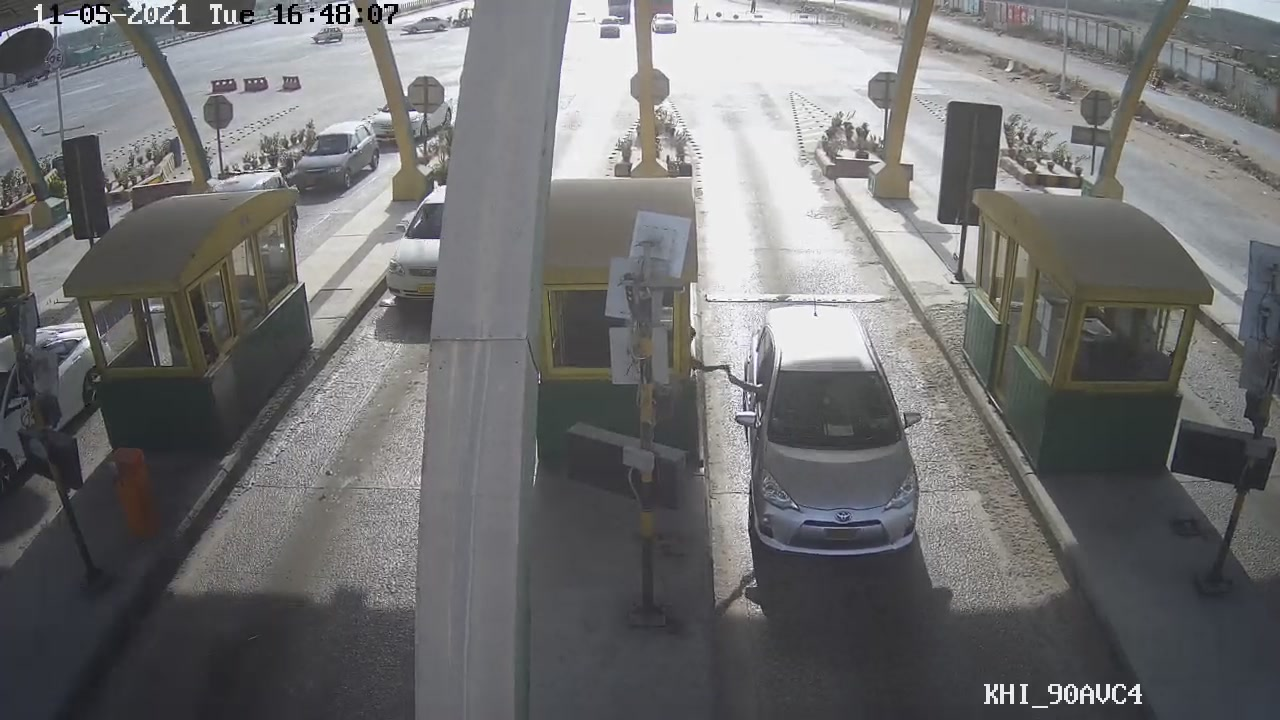F1: (726, 299, 926, 564)
